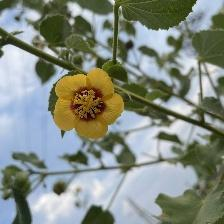indian mallow: (54, 70, 126, 144)
